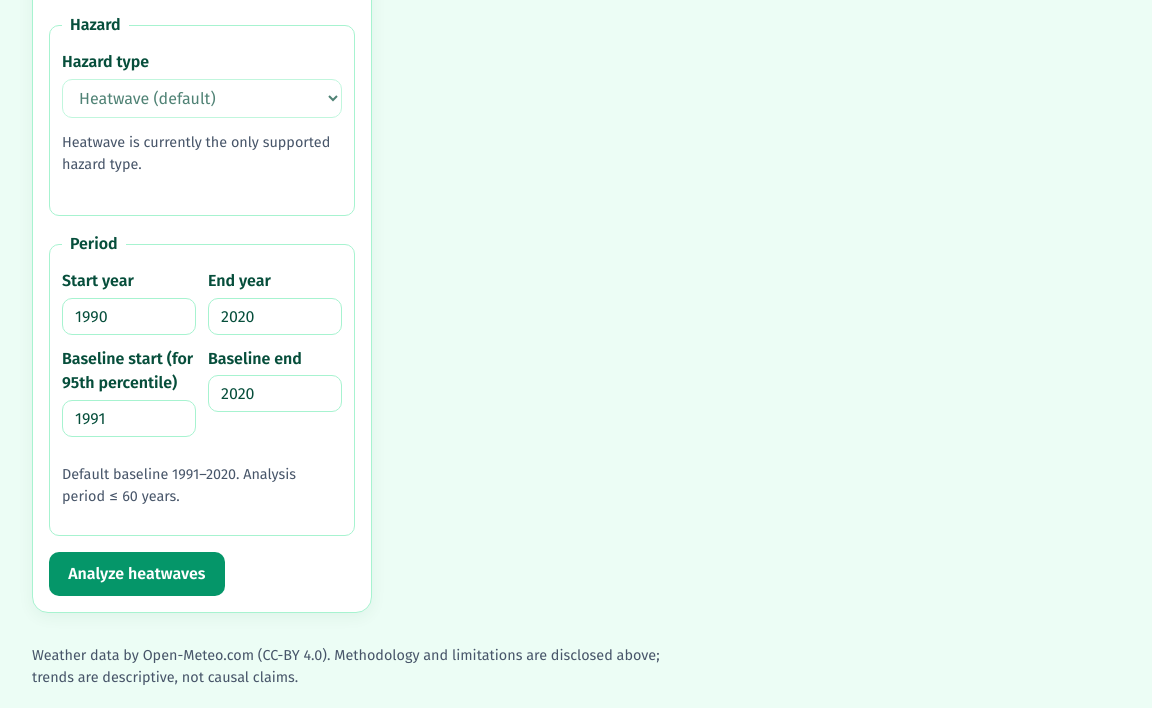
Test: AnalyzerPage › renders charts and summary from the API response
The width and height of the screenshot is (1152, 708).
(page scrolled)
Click the button "Analyze heatwaves": click(137, 574) 49,552 -> 225,596
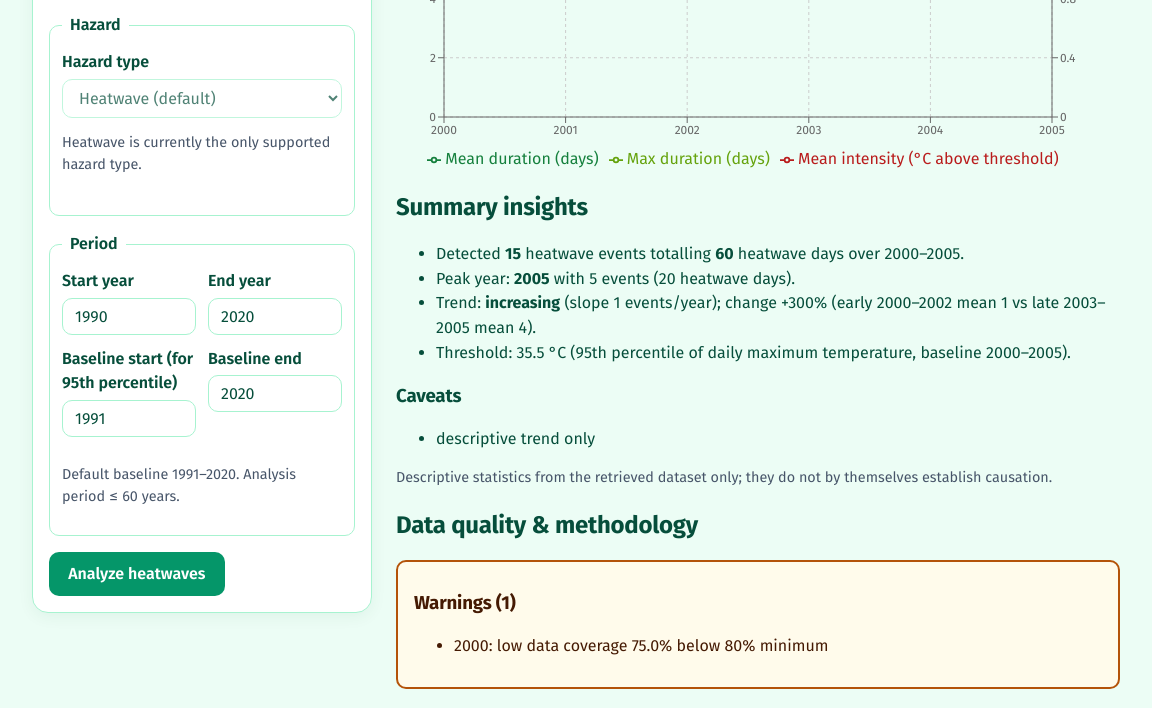
Result: the list item "Peak year: 2005 with 5 events (20 heatwave days)." is shown at 436,269 -> 795,288
Result: the list item "Threshold:" shows "35.5" at 516,343 -> 566,362
Result: the message shows "low data coverage" at 454,636 -> 828,655
